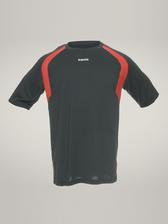clothoes: (6, 41, 160, 186)
